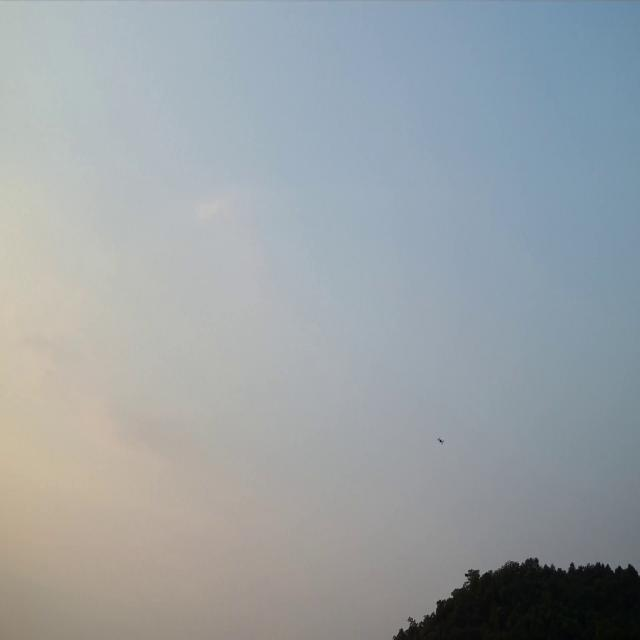drone: (438, 436, 445, 445)
